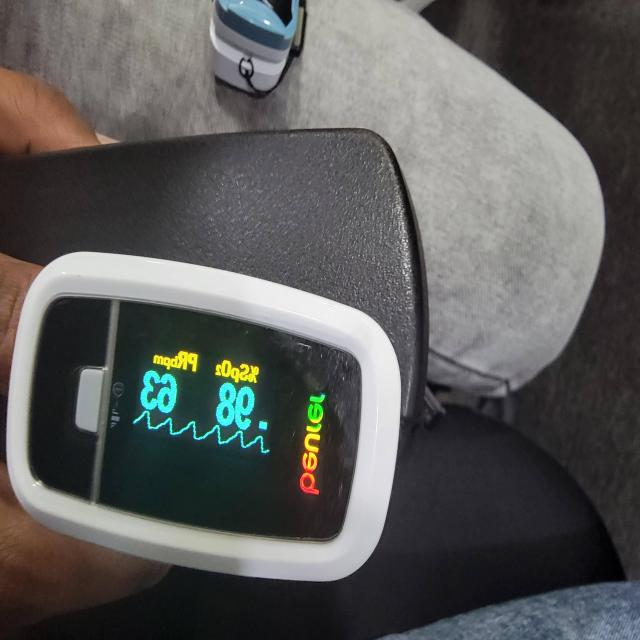spo2: (0, 129, 423, 585)
